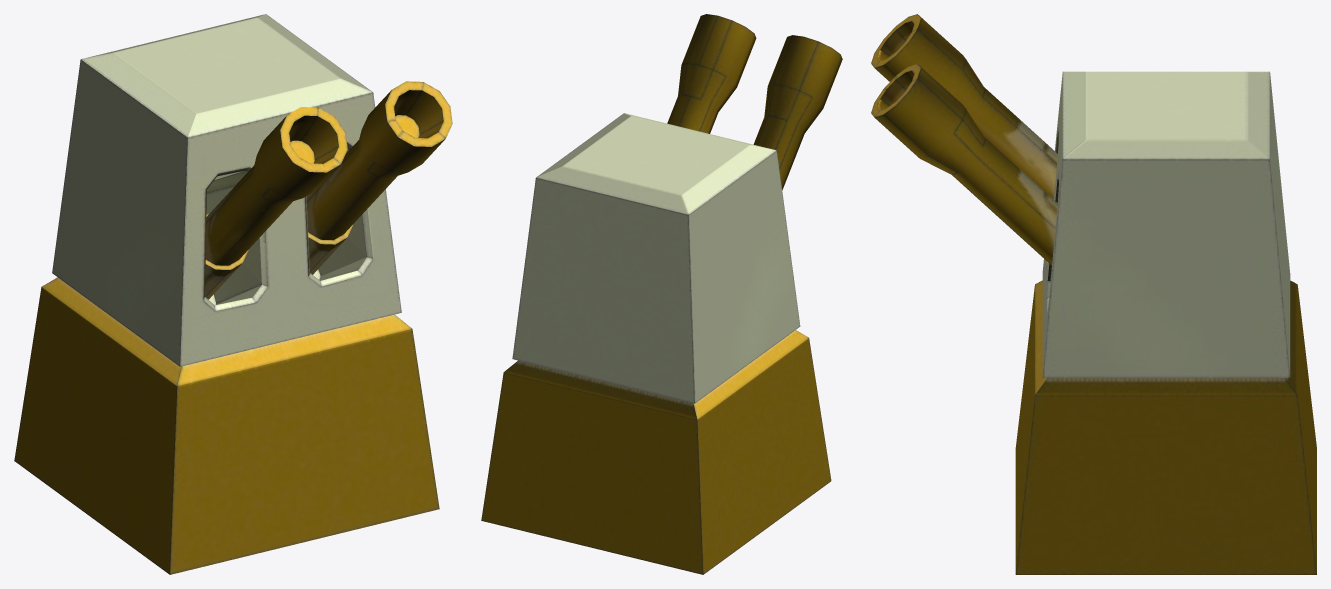
Rendered from manualgun.obj.
3 views of the same model, side by side, from view 1: azimuth 30°, elevation 25°; view 2: azimuth 150°, elevation 25°; view 3: azimuth 270°, elevation 25° (orthographic). The views are drawn at different scales.
Parts seen in each view (by area): view 1: Box028; view 2: Box028; view 3: Box028.
Boxes of the visible parts, <box> form: Box028: <box>14,14,452,574</box>; Box028: <box>481,14,842,574</box>; Box028: <box>871,14,1316,574</box>.
Size of the model in its own units: 13.1 by 22.46 by 19.4.
1 material, 1 textured.
